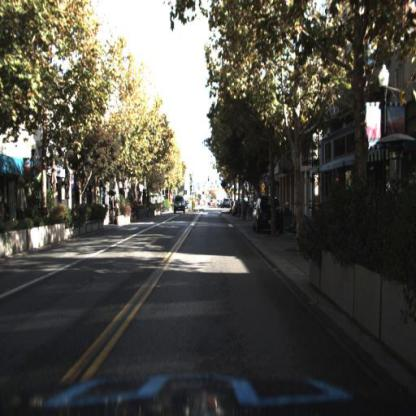car: (251, 197, 283, 237), (171, 192, 188, 218), (173, 195, 184, 214)
